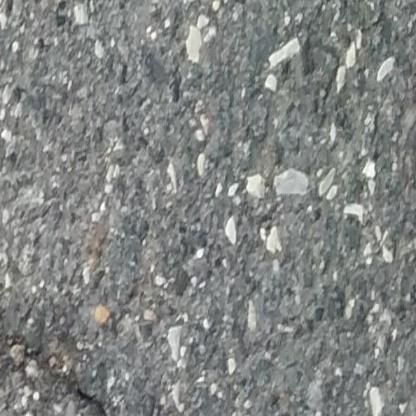Cracks: (0, 299, 130, 416)
